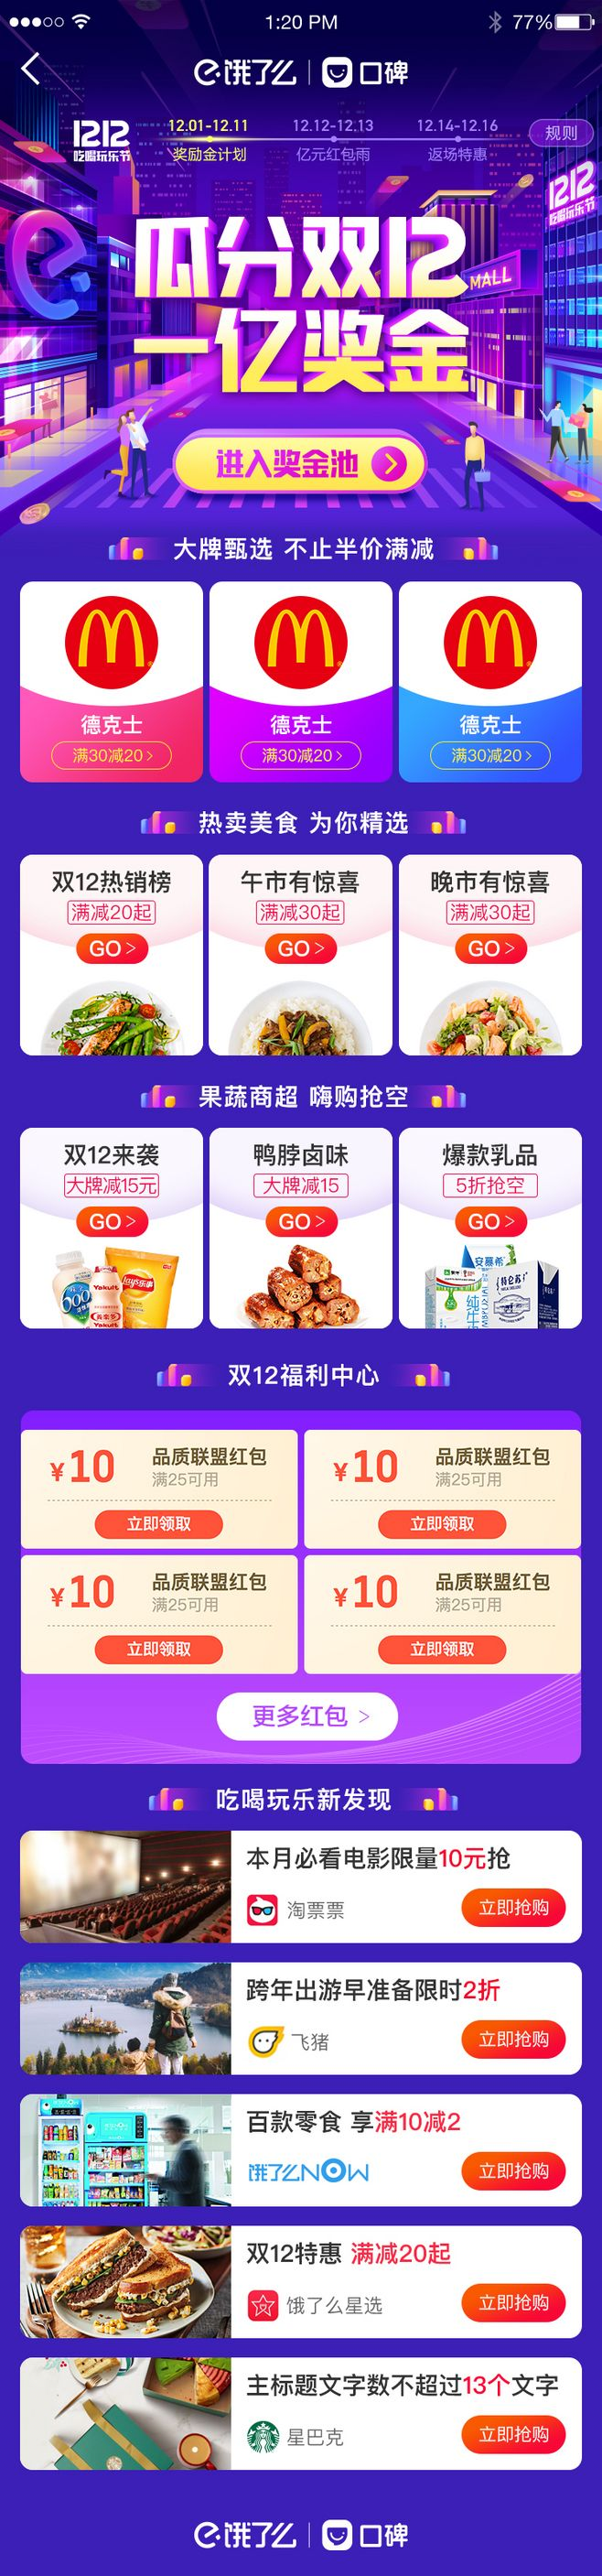floors: (2, 1782, 602, 2474), (2, 1359, 602, 1766), (2, 531, 602, 785), (2, 803, 602, 1058), (2, 1078, 602, 1332)
toutu: (2, 100, 602, 526)
